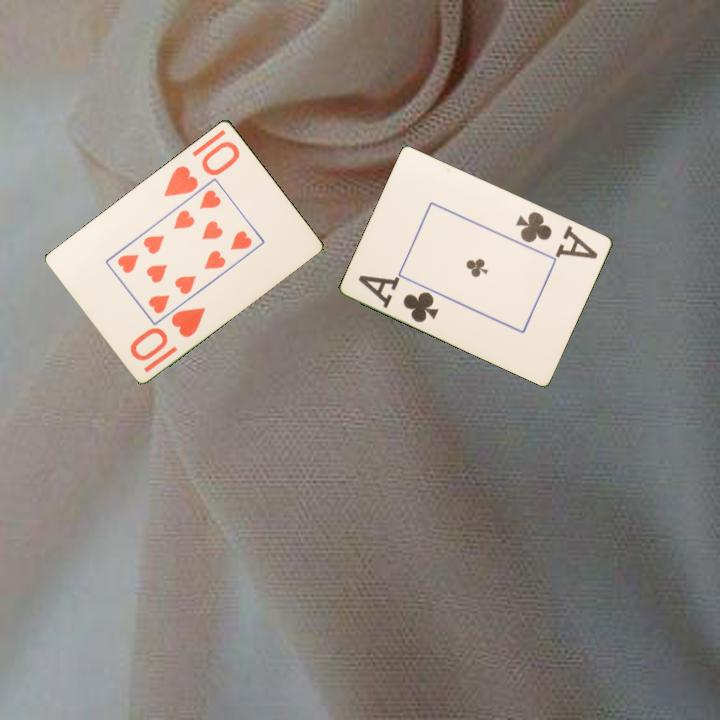10h: (160, 137, 243, 199), (126, 303, 209, 364)
Ac: (512, 208, 601, 262), (355, 271, 442, 325)
